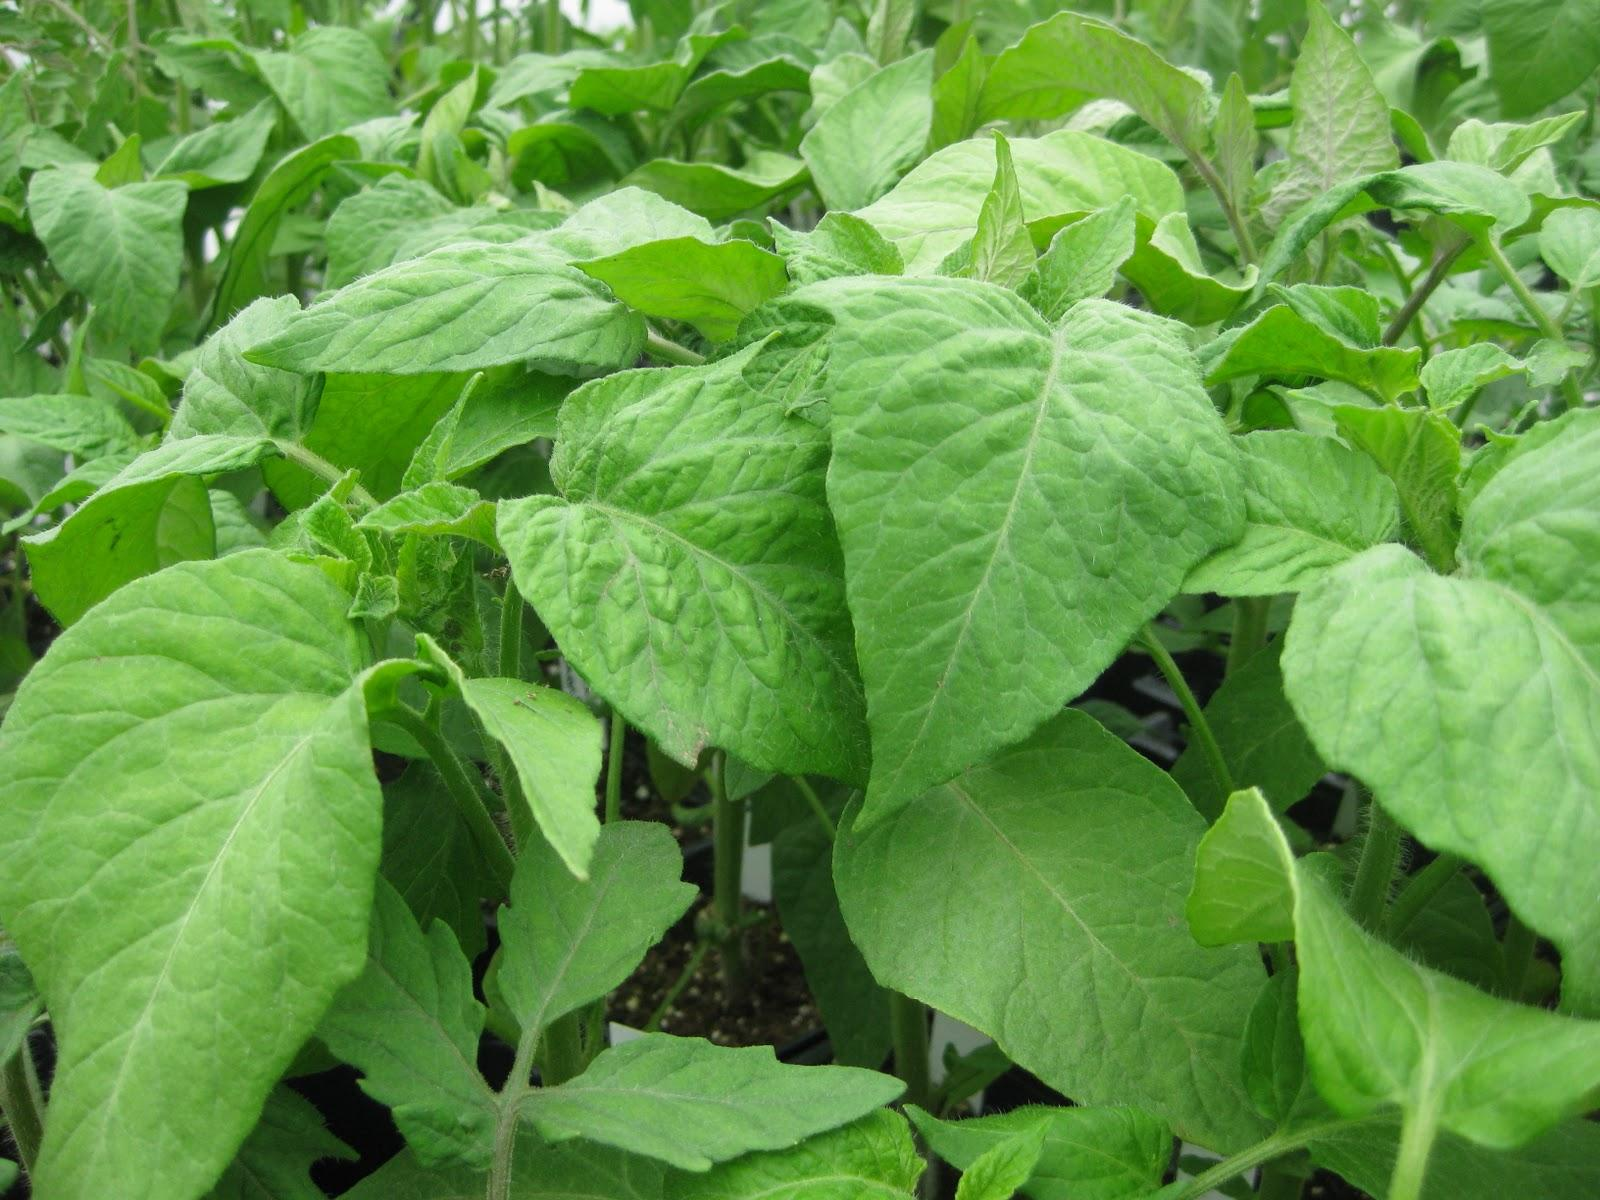Tomato leaf: (820, 228, 1264, 834), (252, 171, 698, 378)
